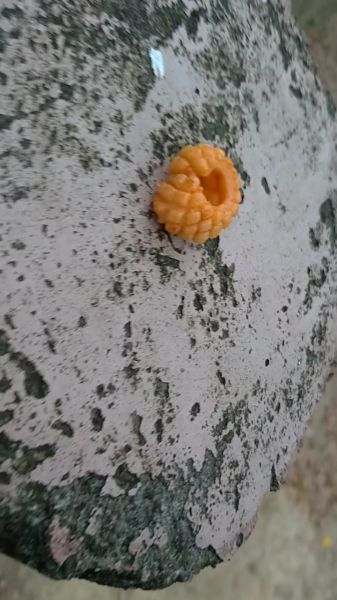eggs: (149, 137, 248, 249)
